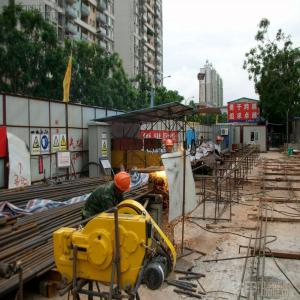red: (114, 174, 132, 196), (166, 140, 174, 154), (217, 136, 222, 146)
